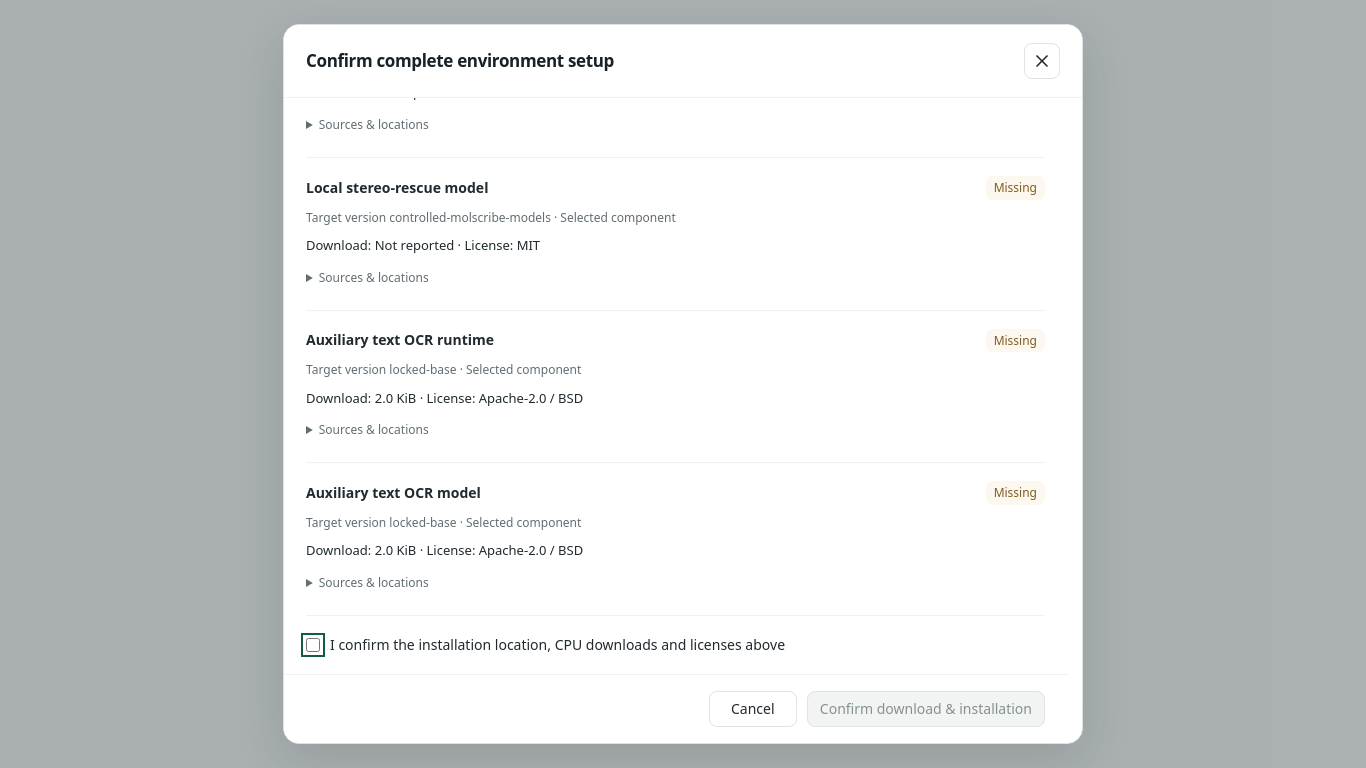
Scenario: operations locale: environment › preserves download/license consent and the exact component plan without installing
(page scrolled)
Expected: the button "Confirm download & installation" is disabled, [807, 691, 1045, 727]
Click the checkbox at (313, 645), box [306, 638, 320, 652]
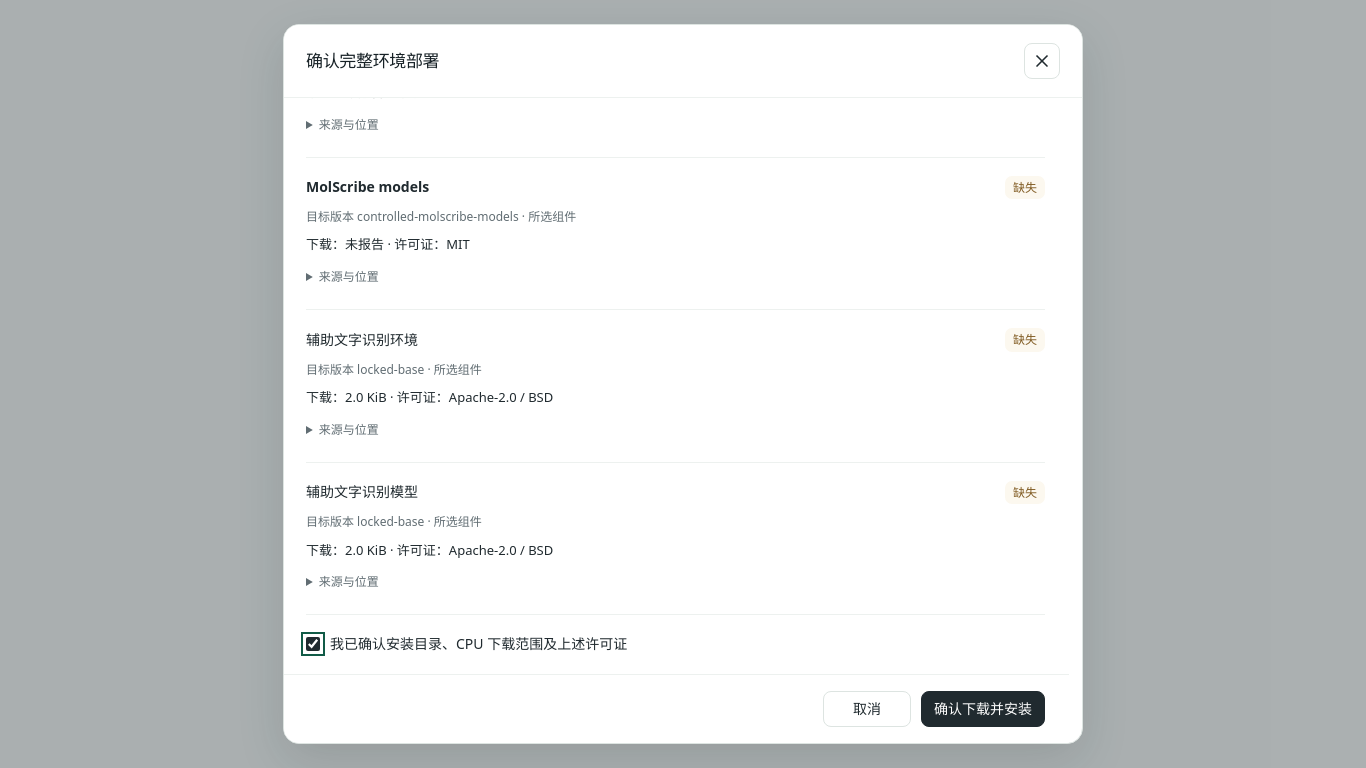
Expected: the dialog named "Confirm complete environment setup" shows "controlled-molscribe-models", [306, 208, 576, 225]
Result: the checkbox is checked at [306, 637, 320, 651]
Result: the button named "Confirm download & installation" is enabled at [921, 691, 1045, 727]
